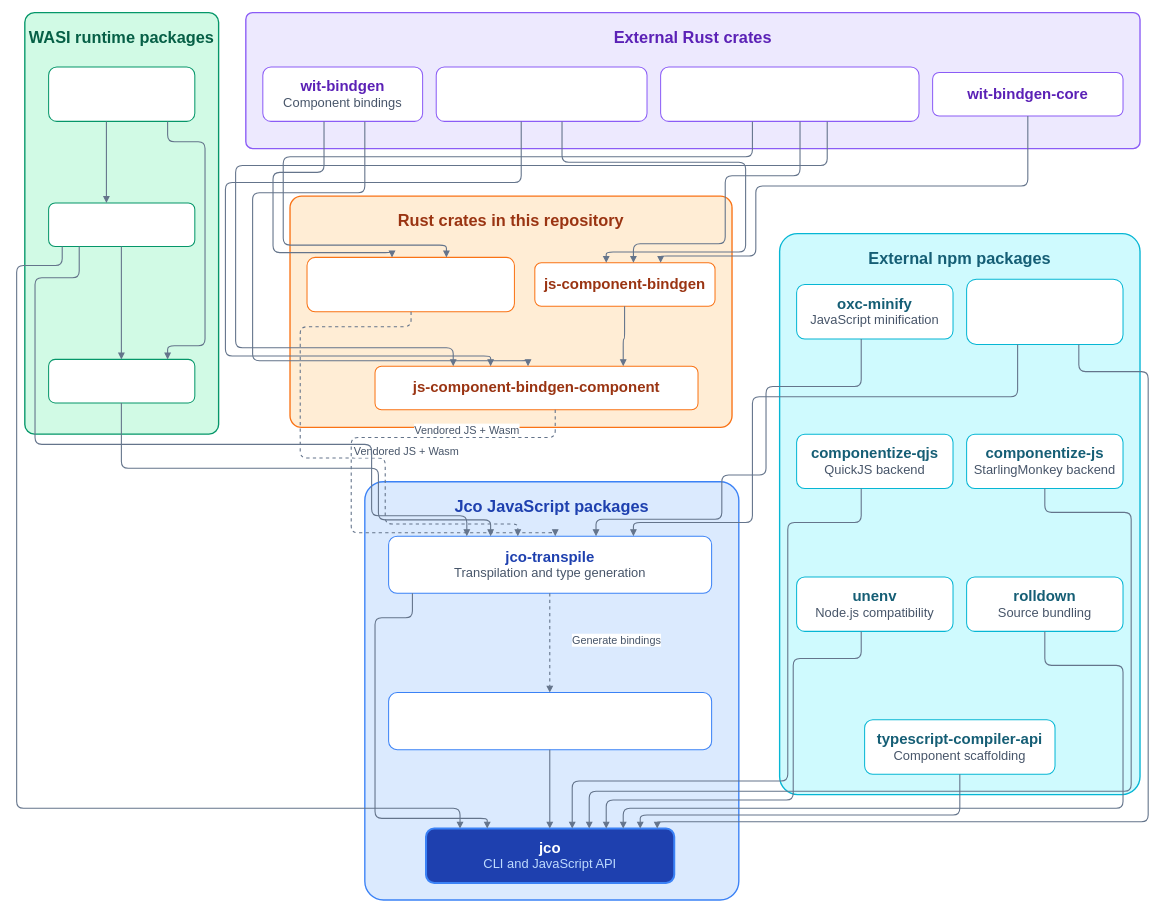
The diagram is 1166 pixels wide and 912 high, and some of its shapes have lost their labels. The shapes that lost their labels are listed below. From the top down, each one's centre as x and y in pixels, then its label:
the point at 121,94: jco-node-fs Rust + JavaScript
the point at 541,94: wasmtime-environ Component model translation
the point at 789,94: wasm-tools crates Wasm and WIT parsing / encoding
the point at 121,224: preview2-shim
the point at 410,284: wasm-tools-component (crate: wasm-tools-js)
the point at 1044,311: binaryen Wasm optimization and wasm2js
the point at 121,381: preview3-shim
the point at 550,721: jco-std Standard library and Node.js adapters
